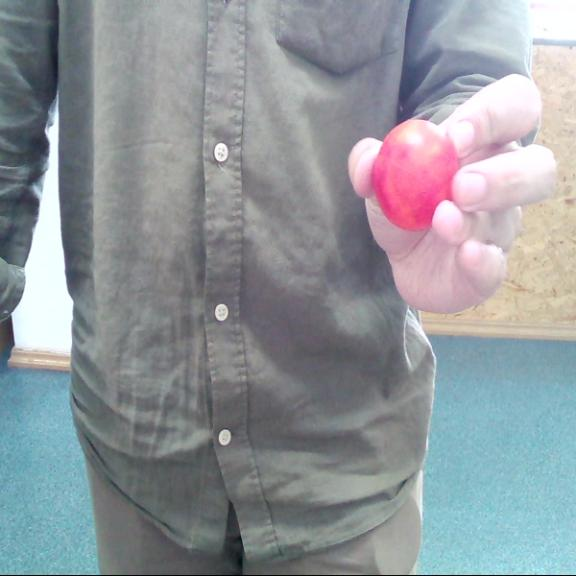ball: (374, 118, 460, 229)
